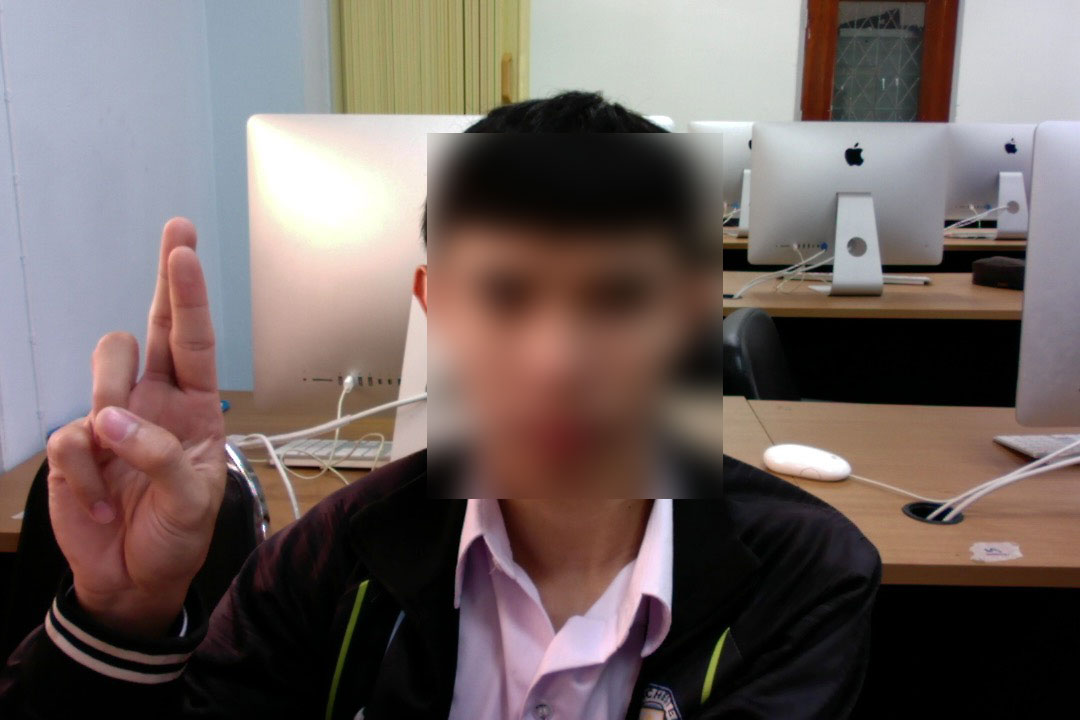rao: (38, 207, 236, 620)
